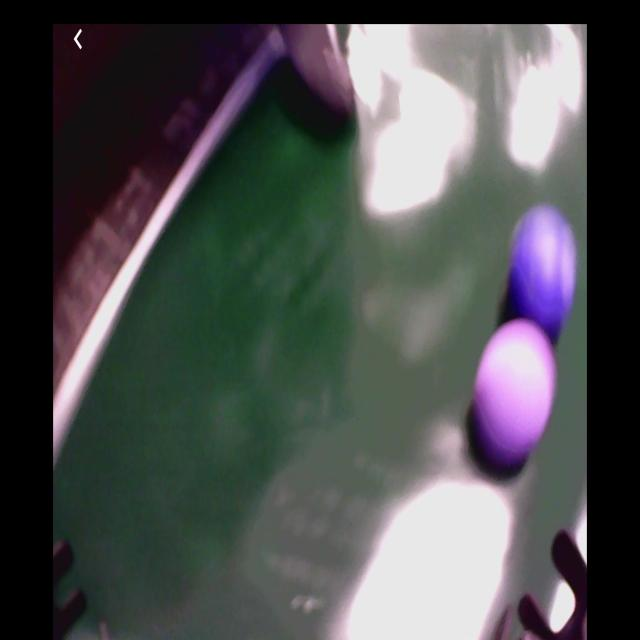ball: (474, 320, 557, 468), (509, 206, 578, 333)
